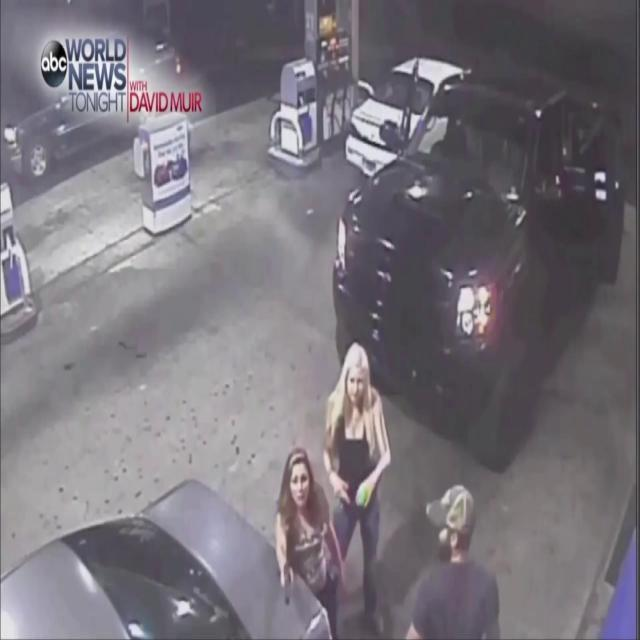weapon: (280, 562, 292, 604)
